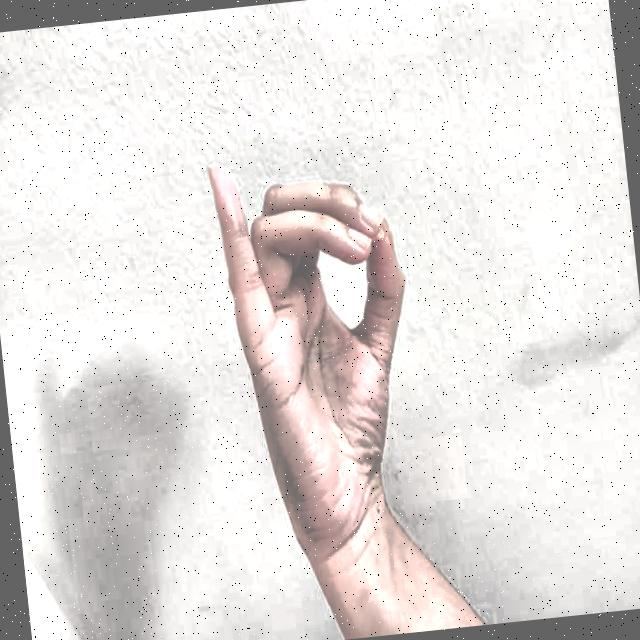Ou: (180, 106, 442, 554)
